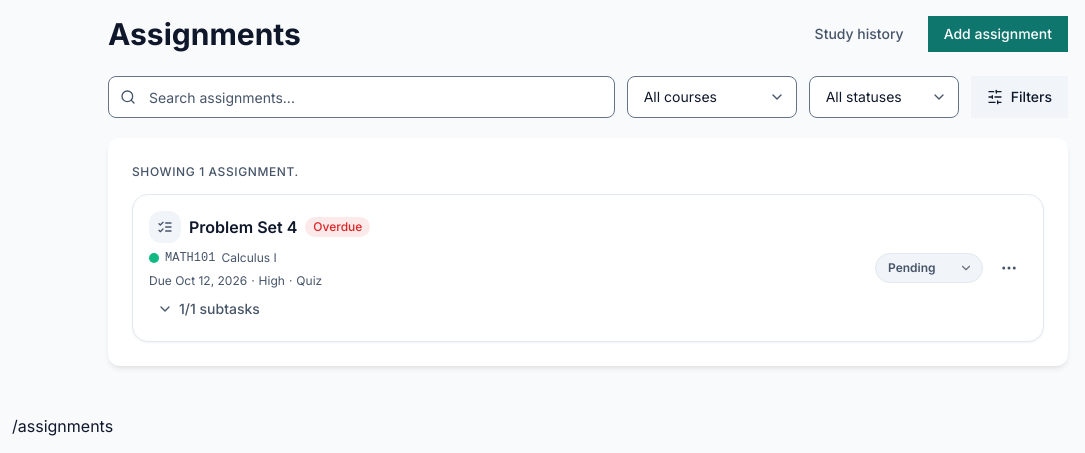
it: AssignmentsPage shared interaction (SP-124B AC 8) › opens the overflow menu with the keyboard, cycles with arrows, and closes on Escape
Check: the button "Problem Set 4" is shown, box [189,215,297,239]
Click the button named "Actions for Problem Set 4".
click(1009, 268)  # box [991,250,1027,286]
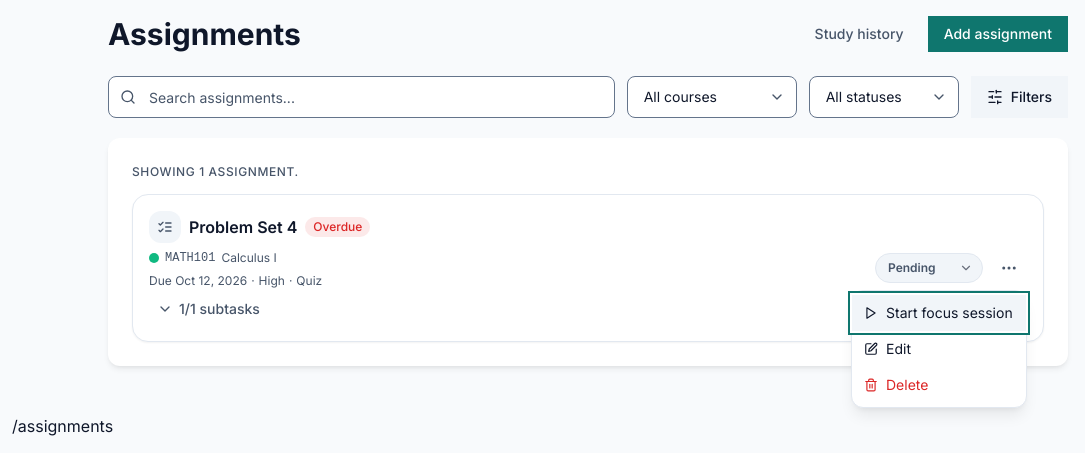
Press Arrowdown
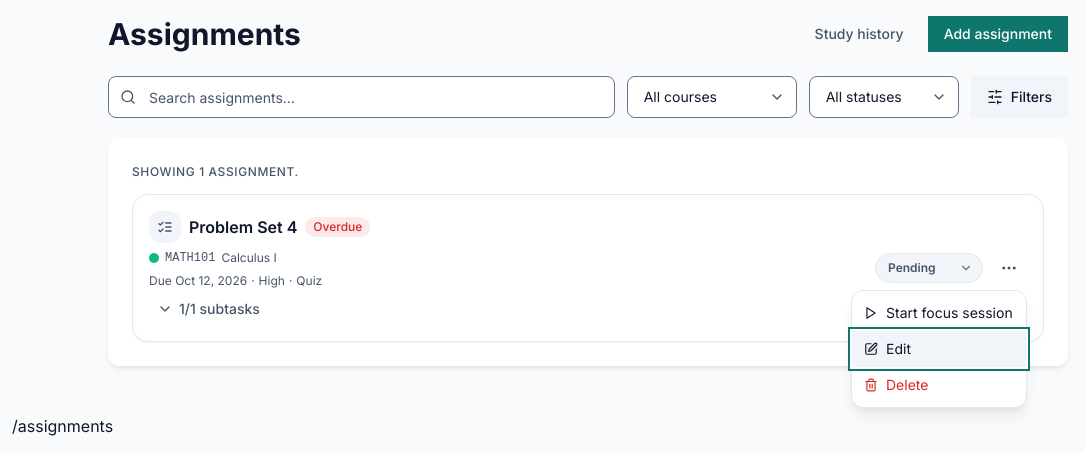
Press Arrowdown
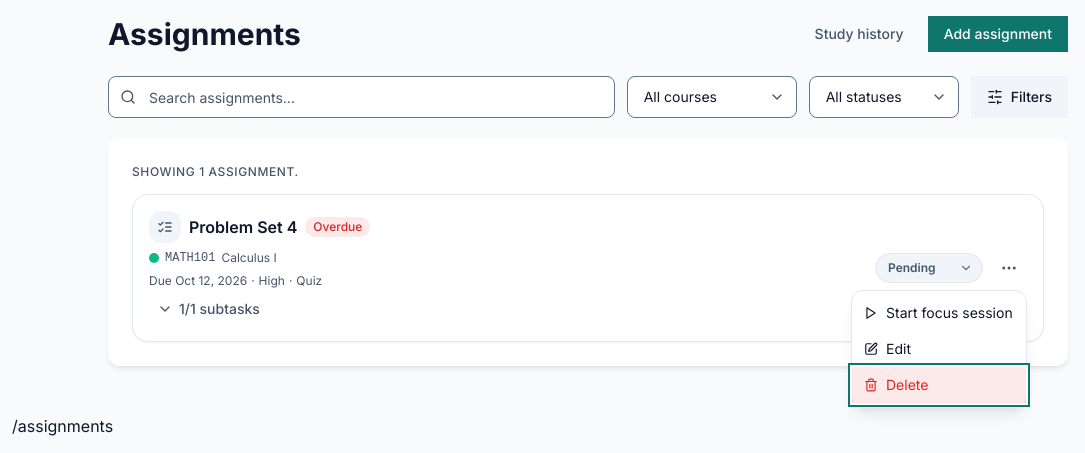
Press Escape
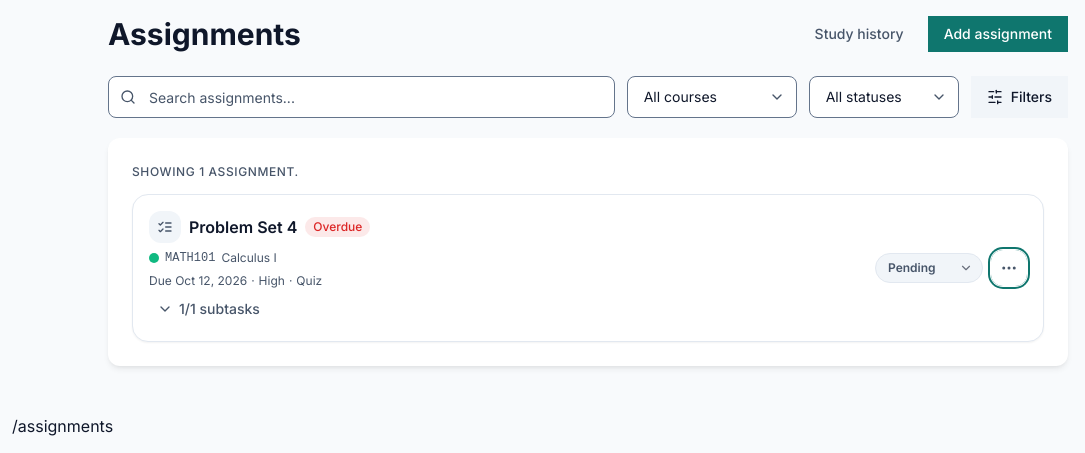
Check: the menu is gone
